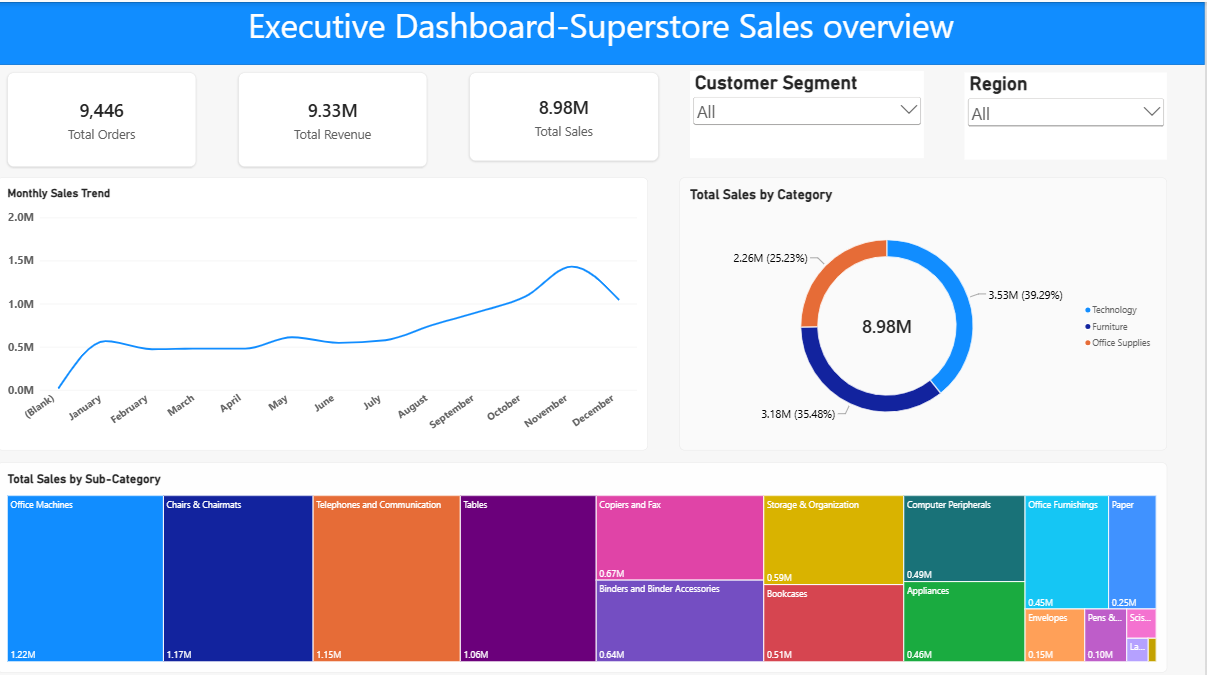

The page's visual inventory and layout, read from the dashboard file:
{"tool":"powerbi","page":{"name":"Executive Dashboard","canvas":[1920,1080],"ordinal":1},"visuals":[{"type":"card","fields":{"Values":["FinalData.Total Orders"]},"box":[16.7,112.1,300,150],"z":0},{"type":"card","fields":{"Values":["FinalData.Total Revenue"]},"box":[384.1,112.1,300,150],"z":1000},{"type":"card","fields":{"Values":["FinalData.Total Sales"]},"box":[751.6,112.1,300.6,140.8],"z":2000},{"type":"lineChart","title":"Monthly Sales Trend","fields":{"Category":["FinalData.Order Date.Variation.Date Hierarchy.Month"],"Y":["Sum(FinalData.Sales)"]},"box":[0,280,1035.5,434.2],"z":3000},{"type":"donutChart","fields":{"Category":["FinalData.Category"],"Y":["FinalData.Total Sales"]},"box":[1085.6,279.2,775.4,434.2],"z":4000},{"type":"treemap","fields":{"Group":["FinalData.Sub-Category"],"Values":["FinalData.Total Sales"]},"box":[0,732.5,1861,334],"z":5000},{"type":"slicer","fields":{"Values":["FinalData.Customer Segment"]},"box":[1102.3,109.8,372.2,138.4],"z":6000},{"type":"slicer","fields":{"Values":["FinalData.Region"]},"box":[1538.9,112.1,322.1,138.4],"z":7000},{"type":"shape","box":[0,0,1920.7,100.2],"z":8000},{"type":"textbox","box":[0,0,1920.7,83.5],"z":9000}]}

Visuals, with their boxes in screenshot pixels (x1, y1, x2, y2), scaled from the page's 1920x1080 canvas onto the 1207x675 screenshot:
card - FinalData.Total Orders: <box>10,70,199,164</box>
card - FinalData.Total Revenue: <box>241,70,430,164</box>
card - FinalData.Total Sales: <box>472,70,661,158</box>
"Monthly Sales Trend" lineChart: <box>0,175,651,446</box>
donutChart - FinalData.Category x FinalData.Total Sales: <box>682,174,1170,446</box>
treemap - FinalData.Sub-Category x FinalData.Total Sales: <box>0,458,1170,667</box>
slicer - FinalData.Customer Segment: <box>693,69,927,155</box>
slicer - FinalData.Region: <box>967,70,1170,157</box>
shape: <box>0,0,1206,63</box>
textbox: <box>0,0,1206,52</box>
